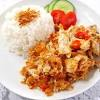ayam_geprek: (29, 30, 92, 93)
